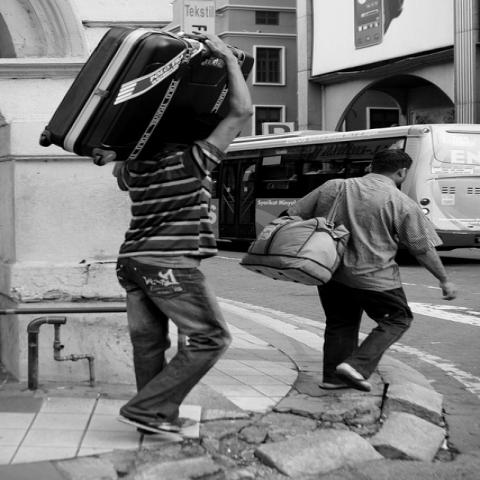bus: (215, 121, 479, 248)
